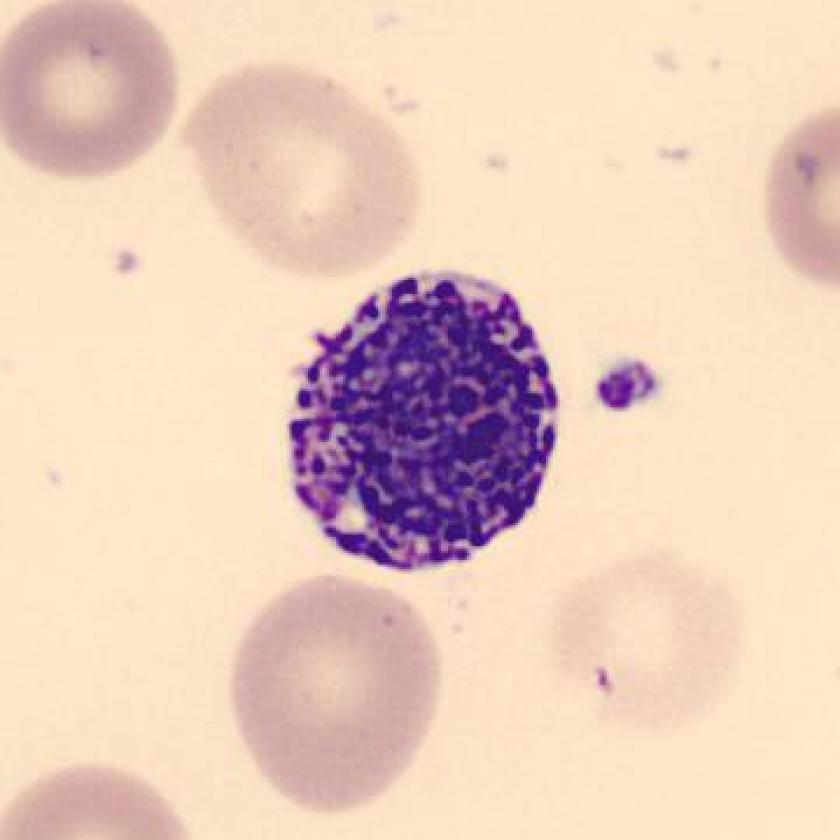basophil: (283, 256, 566, 580)
